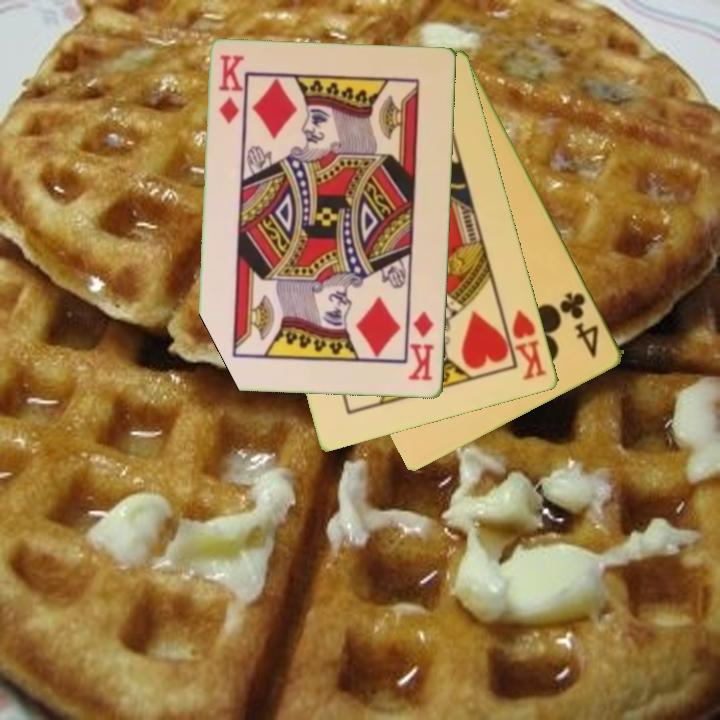4c: (557, 289, 603, 361)
Kd: (405, 308, 437, 384), (215, 52, 247, 127)
Kh: (499, 305, 550, 384)
